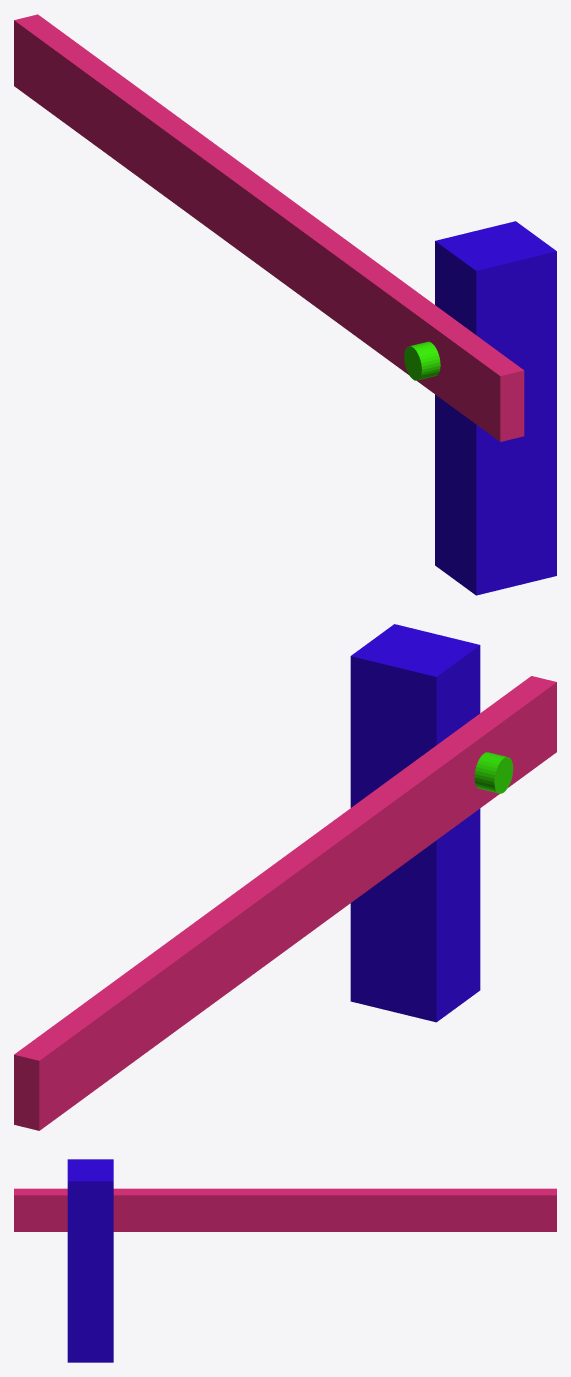
Rendered from shlag.fbx.
The picture shows the model from 3 angles, top to bottom: view 1: azimuth 30°, elevation 25°; view 2: azimuth 150°, elevation 25°; view 3: azimuth 270°, elevation 25°; orthographic projection. The views are drawn at different scales.
Parts seen in each view (by area): view 1: Цилиндр; view 2: Цилиндр; view 3: Цилиндр.
Boxes of the visible parts, x1,y1,x2,y2 form: Цилиндр: (14, 14, 556, 595); Цилиндр: (14, 624, 556, 1130); Цилиндр: (14, 1159, 556, 1362).
Size of the model in its own units: 40.2 by 101 by 274.
